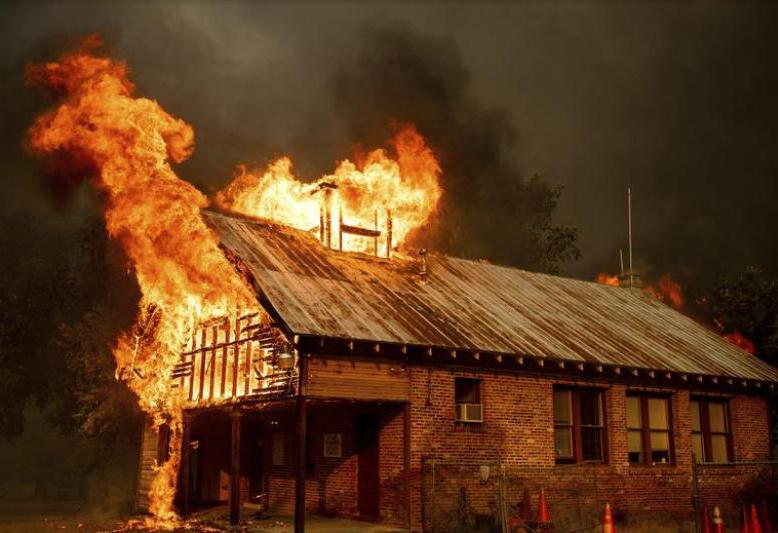Fire: (23, 29, 452, 532), (646, 274, 689, 314), (600, 270, 625, 291)
